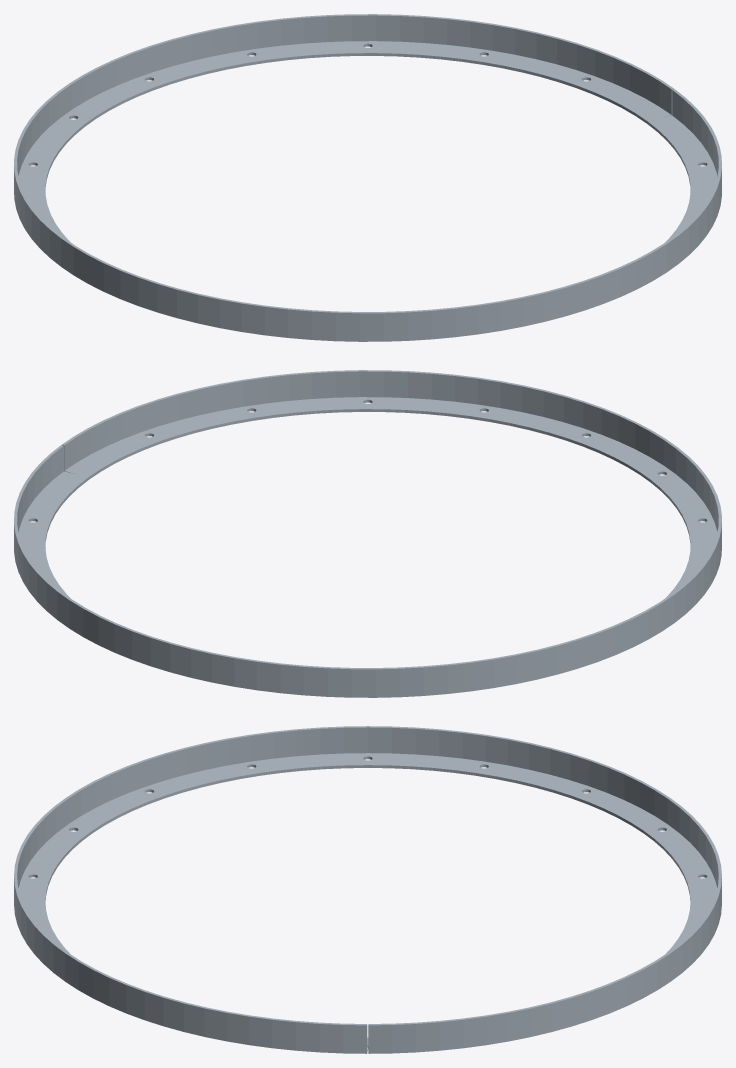
Rendered from shop_s010006.gltf.
The picture shows the model from 3 angles, top to bottom: view 1: azimuth 30°, elevation 25°; view 2: azimuth 150°, elevation 25°; view 3: azimuth 270°, elevation 25°; orthographic projection.
Parts seen in each view (by area): view 1: 100017_L100*10; view 2: 100017_L100*10; view 3: 100017_L100*10.
Part boxes in pixels (x1,y1,x2,y2): 100017_L100*10: (14, 14, 721, 341); 100017_L100*10: (14, 370, 721, 697); 100017_L100*10: (14, 726, 721, 1053).
Bounding box in the file's own units: 2.25 × 0.1 × 2.25.
